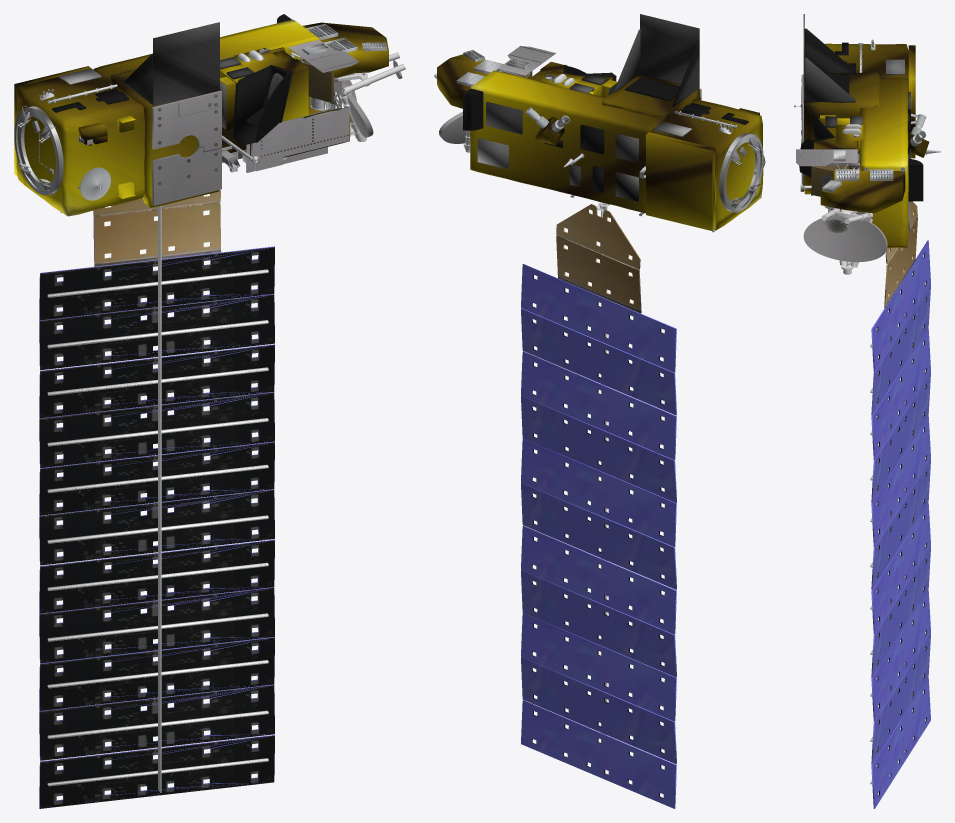
File: aura.glb
3 views of the same model, side by side, from view 1: azimuth 30°, elevation 25°; view 2: azimuth 150°, elevation 25°; view 3: azimuth 270°, elevation 25° (orthographic). The views are drawn at different scales.
Parts seen in each view (by area): view 1: tex_01, foil_gold, shiny_panel, foil_silver, black_krinkle, tex_01d; view 2: shiny_panel, foil_gold, tex_01, foil_silver, black_krinkle; view 3: shiny_panel, foil_gold, tex_01, foil_silver, black_krinkle, tex_01d.
Boxes of the visible parts, x1=… form: tex_01: x1=14, y1=24, x2=402, y2=808; foil_gold: x1=14, y1=19, x2=388, y2=216; shiny_panel: x1=39, y1=246, x2=274, y2=808; foil_silver: x1=59, y1=22, x2=254, y2=106; black_krinkle: x1=52, y1=14, x2=292, y2=145; tex_01d: x1=290, y1=52, x2=405, y2=141; shiny_panel: x1=521, y1=264, x2=676, y2=808; foil_gold: x1=437, y1=54, x2=763, y2=230; tex_01: x1=439, y1=46, x2=765, y2=798; foil_silver: x1=477, y1=14, x2=699, y2=201; black_krinkle: x1=463, y1=65, x2=748, y2=192; shiny_panel: x1=871, y1=240, x2=930, y2=808; foil_gold: x1=804, y1=43, x2=929, y2=247; tex_01: x1=794, y1=39, x2=940, y2=796; foil_silver: x1=803, y1=14, x2=910, y2=232; black_krinkle: x1=799, y1=42, x2=923, y2=201; tex_01d: x1=821, y1=165, x2=872, y2=274.
Size of the model in its own units: 8.73 by 18.7 by 3.43.
Materials: 6 (4 with a texture image).
